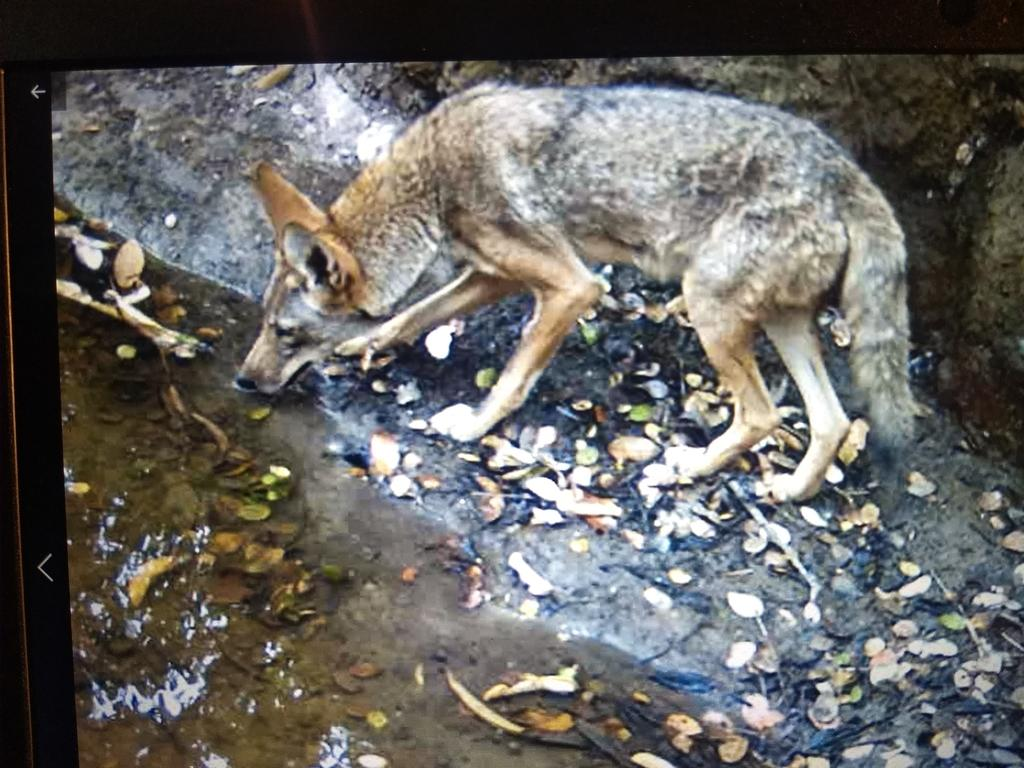Coyote: (237, 79, 928, 512)
